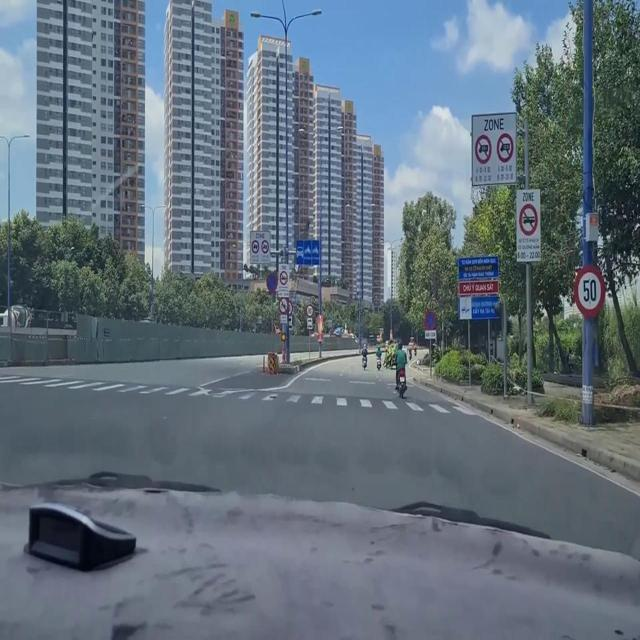Biển phụ: (277, 312, 293, 332), (419, 328, 438, 341), (308, 314, 315, 333)
Cấm các phương tiện hoạt động trong khung giờ cố định: (469, 113, 517, 189), (517, 181, 540, 263), (245, 224, 272, 264), (277, 261, 293, 296)
Cấm dừng - Cấm đỗ: (422, 304, 439, 328), (263, 268, 277, 295)
Cấm xe máy: (277, 293, 291, 314)
Giới hạn tốc độ 50Km/h: (569, 259, 604, 314)
Giới hạn tốc độ 80Km/h: (306, 301, 313, 316)
Khác: (456, 249, 502, 323)
Làn đường cho từng xe: (292, 229, 326, 273)
